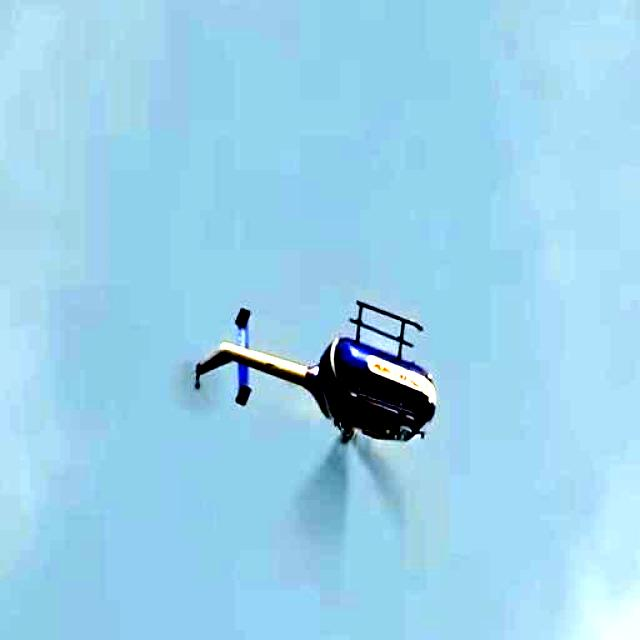drone: (180, 282, 449, 485)
